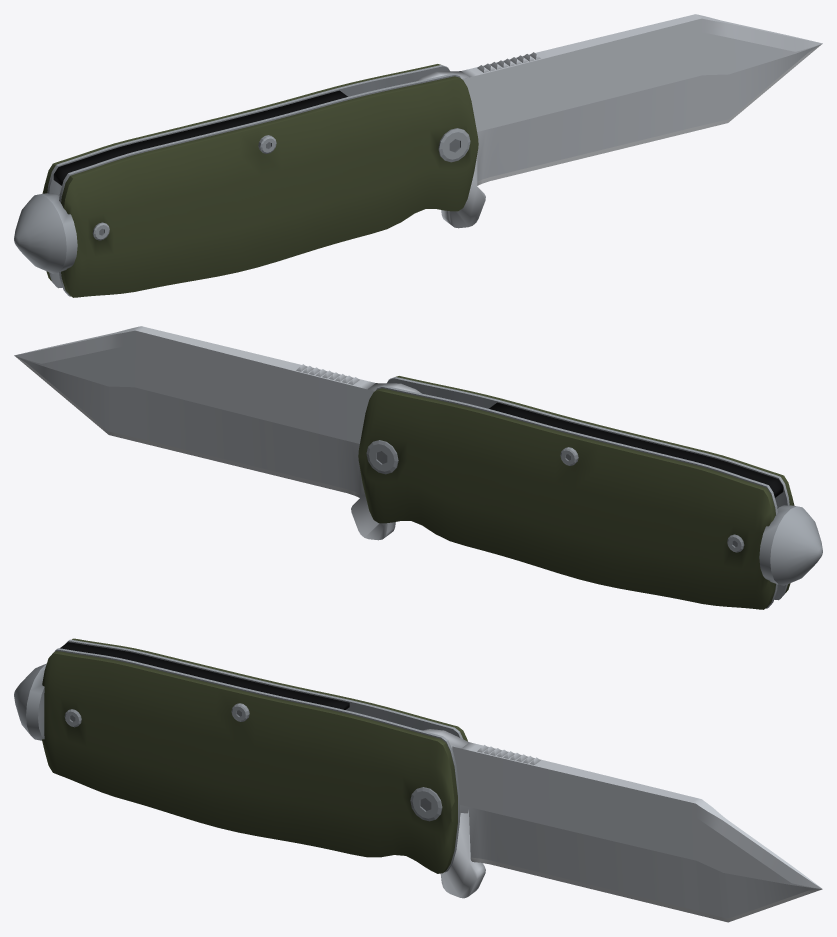
File: ursus.glb
3 renders of one model, top to bottom at view 1: azimuth 30°, elevation 25°; view 2: azimuth 150°, elevation 25°; view 3: azimuth 330°, elevation 25°, orthographic.
Parts seen in each view (by area): view 1: body, blade_pivot_mesh; view 2: body, blade_pivot_mesh; view 3: body, blade_pivot_mesh.
Part boxes in pixels (x1,y1,x2,y2): body: (14, 64, 478, 297); blade_pivot_mesh: (415, 14, 822, 228); body: (358, 376, 822, 609); blade_pivot_mesh: (14, 326, 421, 540); body: (14, 638, 467, 873); blade_pivot_mesh: (422, 729, 822, 922).
Bounding box in the file's own units: 0.247 × 0.0469 × 0.0216.
